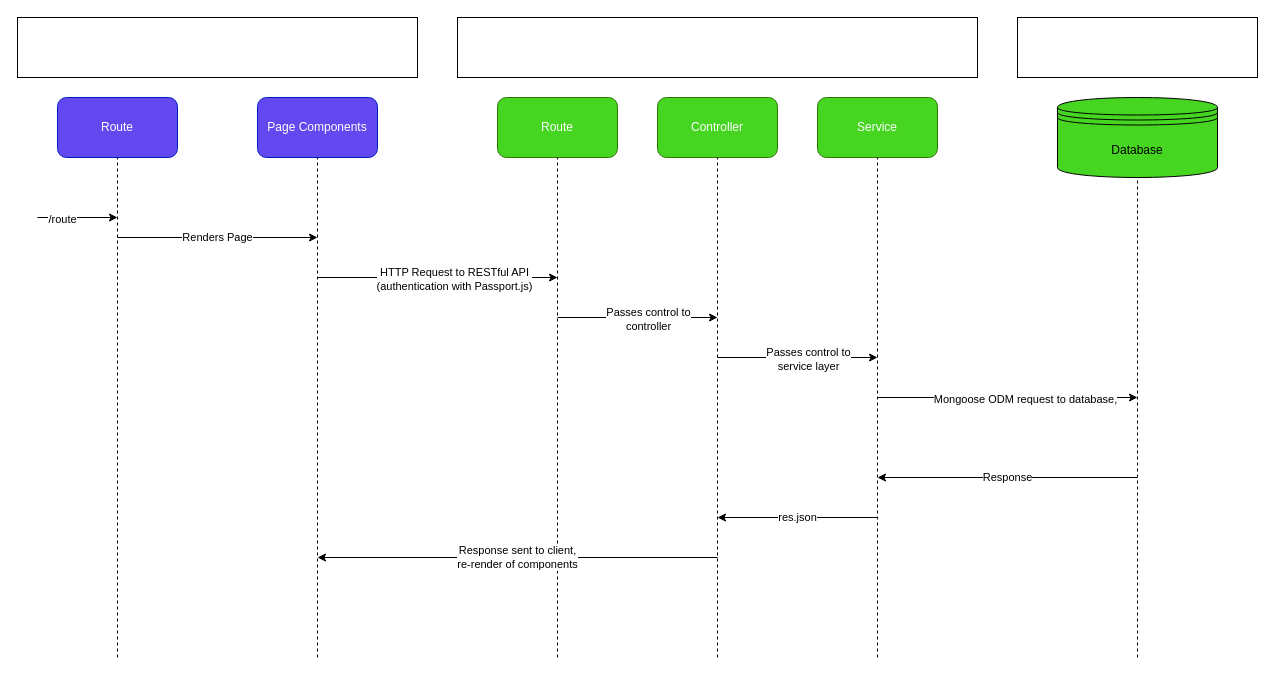
This 1275x676 diagram has some shape labels left out. Here are the shapes that lost their labels. From the top down, the centre of each, then its label:
At (x=217, y=47): "Client/Front-end (React)".
At (x=717, y=47): "Back-end (Node.js | Express | Mongoose | Passport.js)".
At (x=1137, y=47): "Database (MongoDB)".
